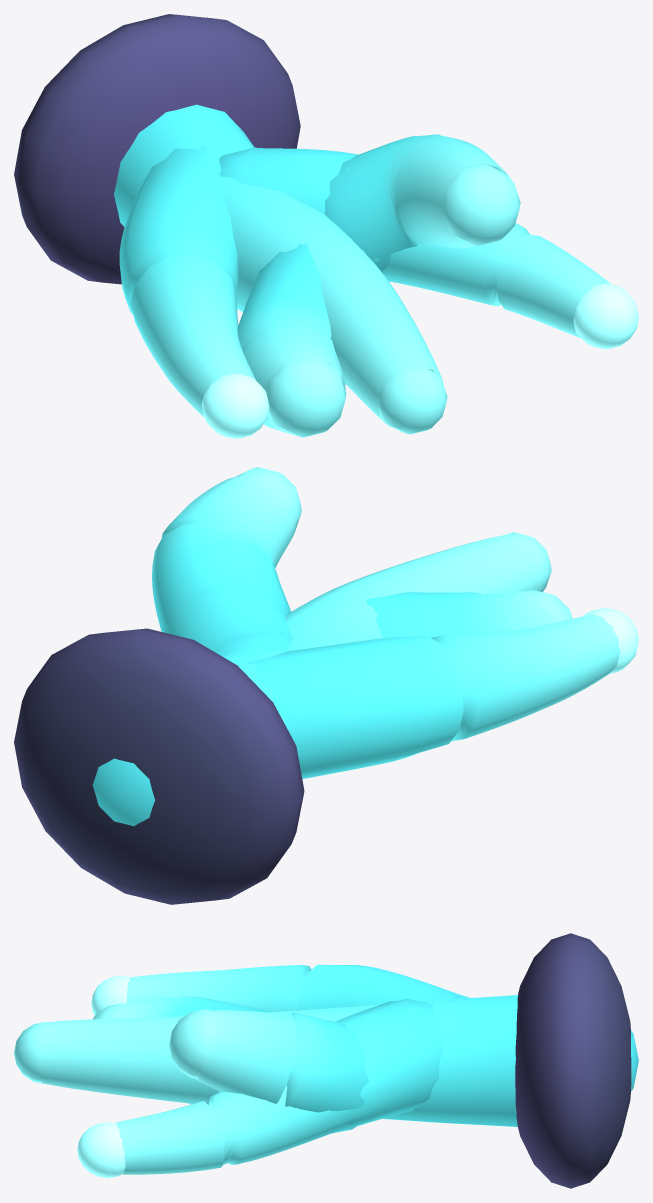
File: SpalakhSmoothCoralCyan_v099.glb
The picture shows the model from 3 angles, top to bottom: view 1: azimuth 30°, elevation 25°; view 2: azimuth 150°, elevation 25°; view 3: azimuth 270°, elevation 25°; orthographic projection. The views are drawn at different scales.
Parts seen in each view (by area): view 1: game_asset; view 2: game_asset; view 3: game_asset.
Part boxes in pixels (x1=…): game_asset: x1=14, y1=14, x2=638, y2=438; game_asset: x1=14, y1=467, x2=638, y2=904; game_asset: x1=14, y1=933, x2=638, y2=1188.
Size of the model in its own units: 0.604 by 0.3545 by 0.898.
